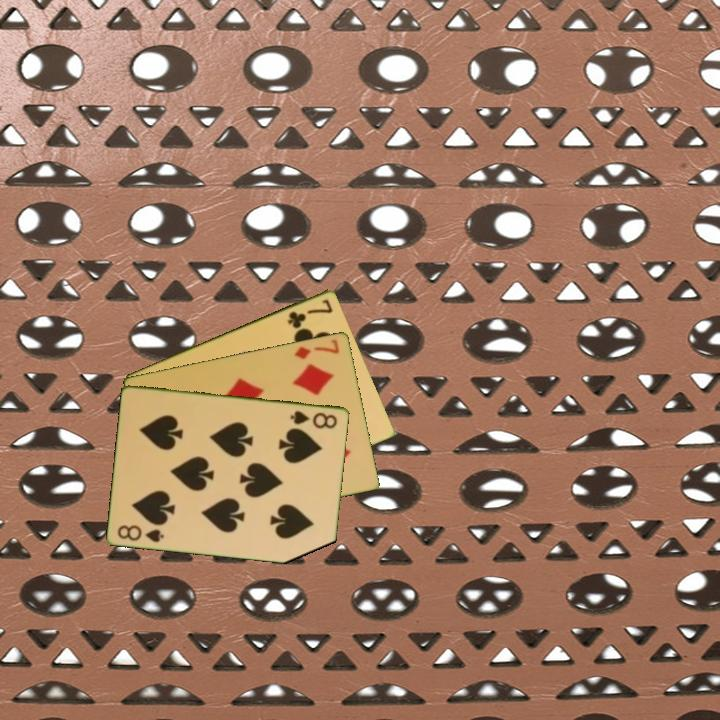7c: (284, 295, 336, 331)
7d: (291, 335, 342, 362)
8s: (287, 407, 340, 431), (114, 521, 167, 545)
